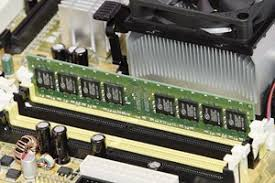ram: (25, 54, 255, 143)
